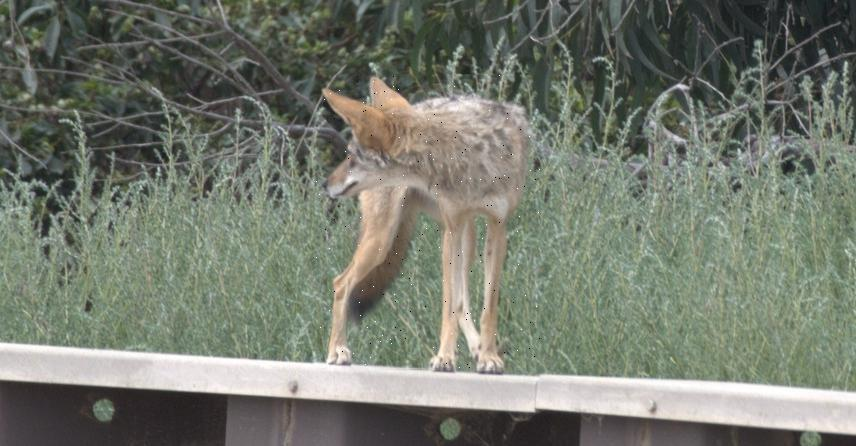Coyote: (314, 75, 540, 370)
